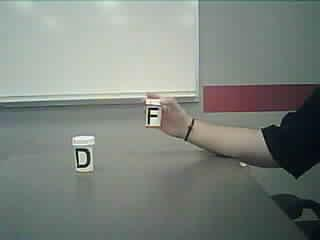Bottle D: (72, 132, 100, 177)
Bottle F: (143, 95, 165, 130)
